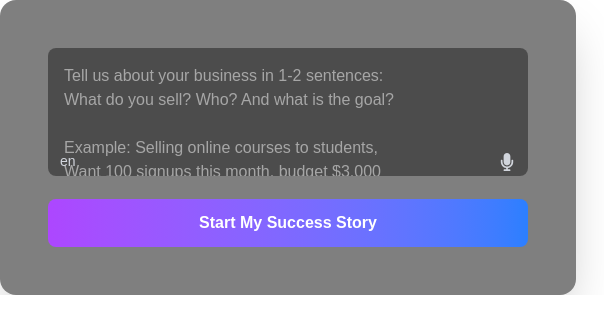
Test: CampaignBox › clears text when clear button is clicked
Step 1. Replace the text in the text box with "Test" → [288, 112], box [48, 48, 528, 176]
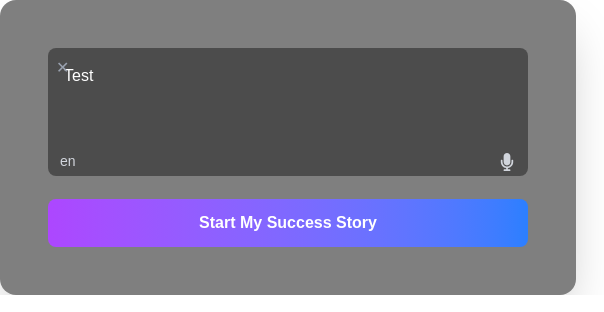
Step 2. Click the button "✕" → [63, 68], box [56, 56, 69, 80]
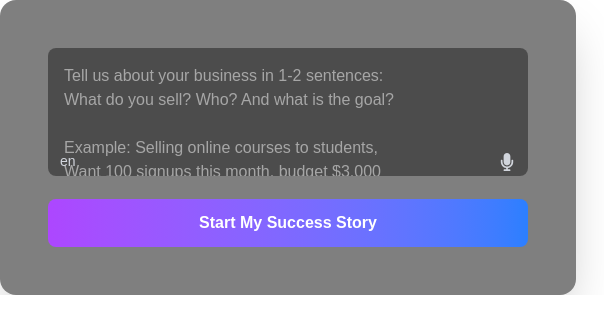
Check: the text box is empty, box [48, 48, 528, 176]
